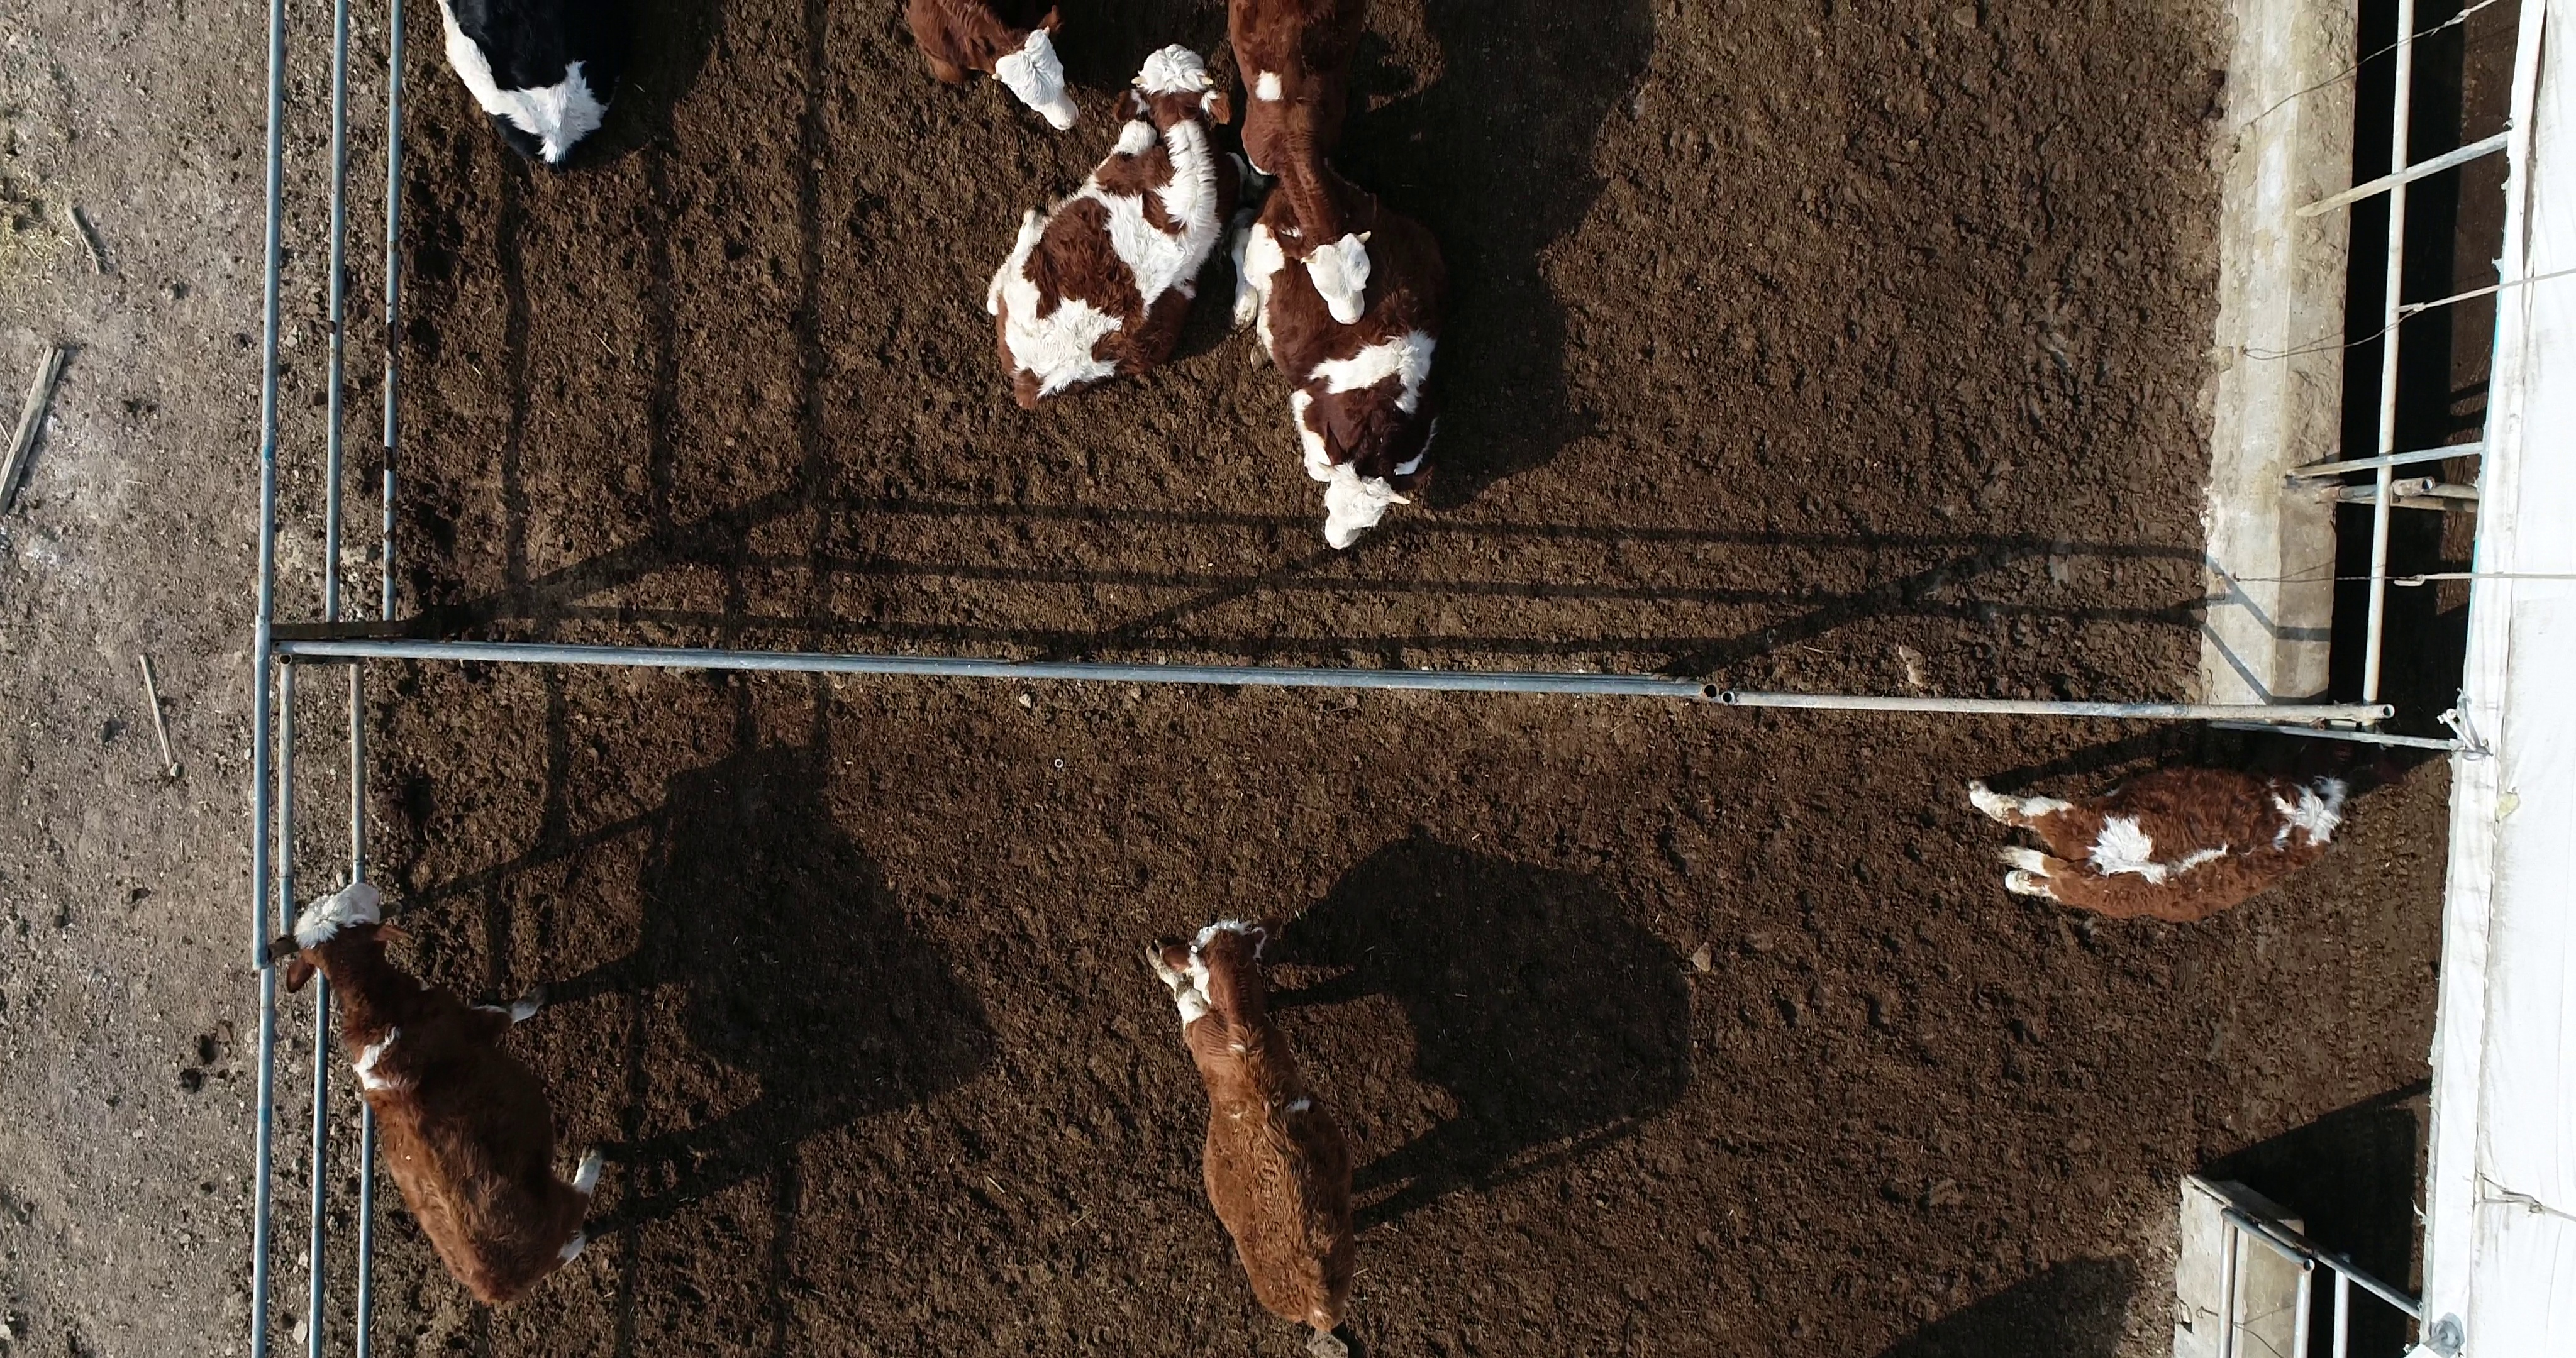cattle: (276, 876, 610, 1310), (978, 37, 1261, 417), (1136, 917, 1363, 1336), (1961, 758, 2358, 934)
